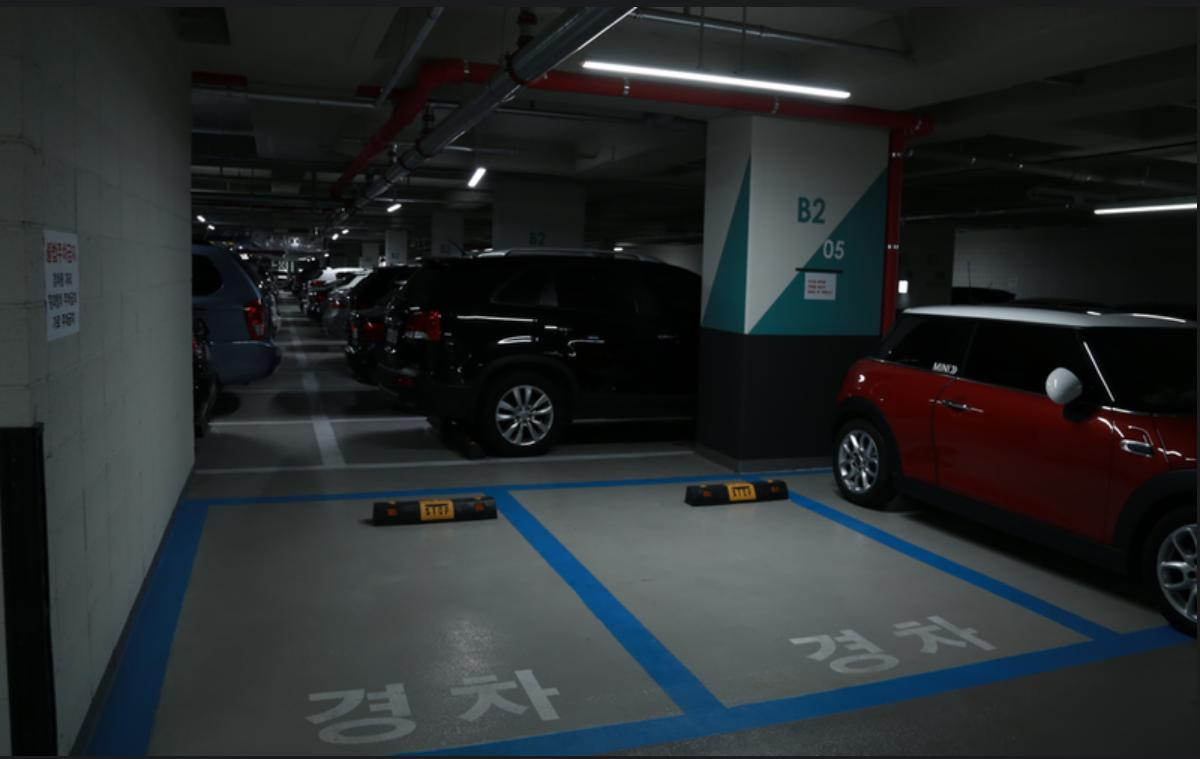empty: (86, 490, 728, 759), (504, 476, 1118, 733)
